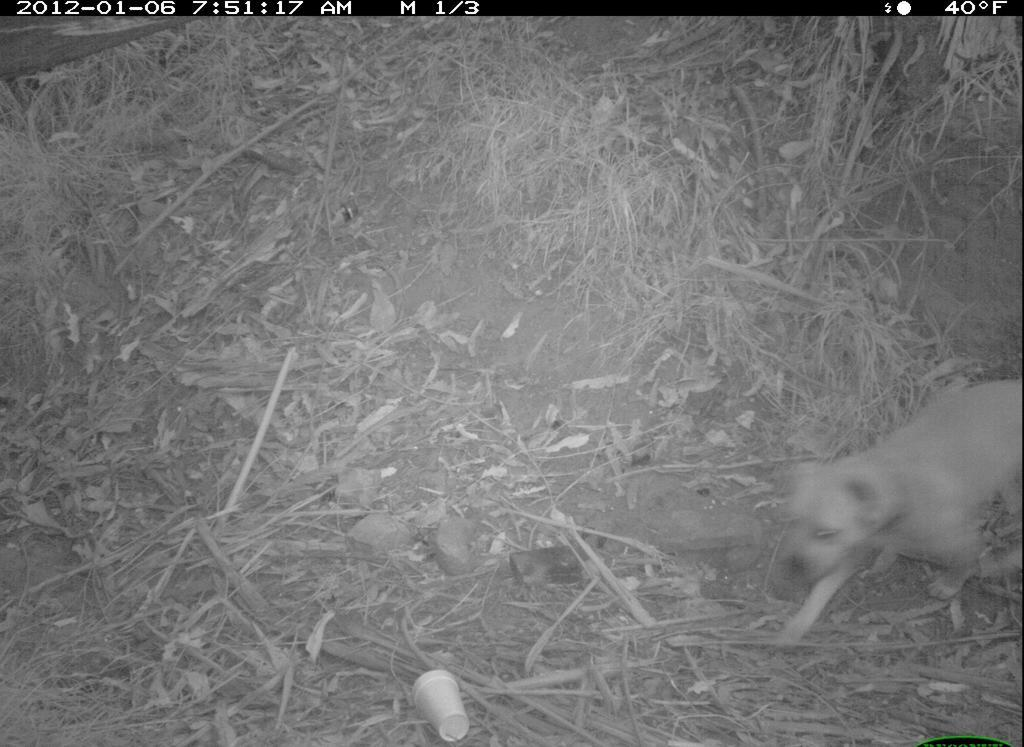dog: (752, 369, 1021, 652)
